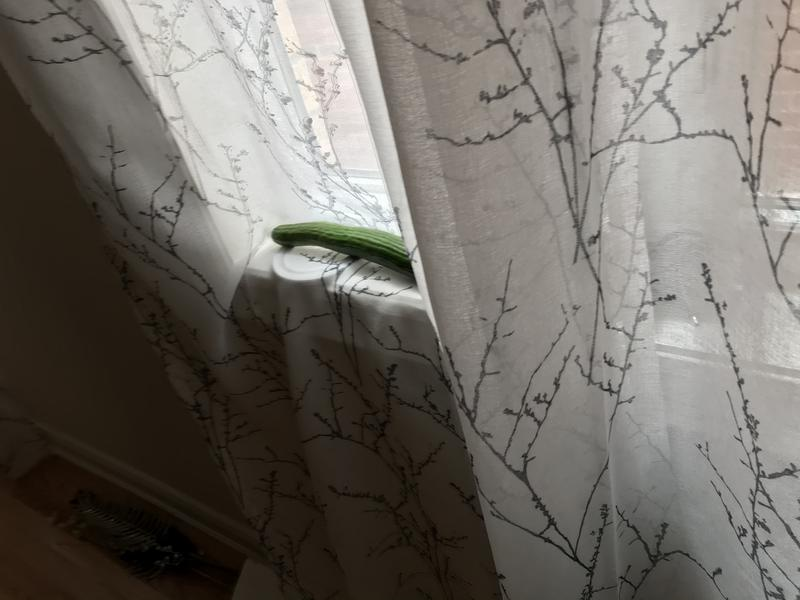cucumber: (267, 212, 450, 297)
